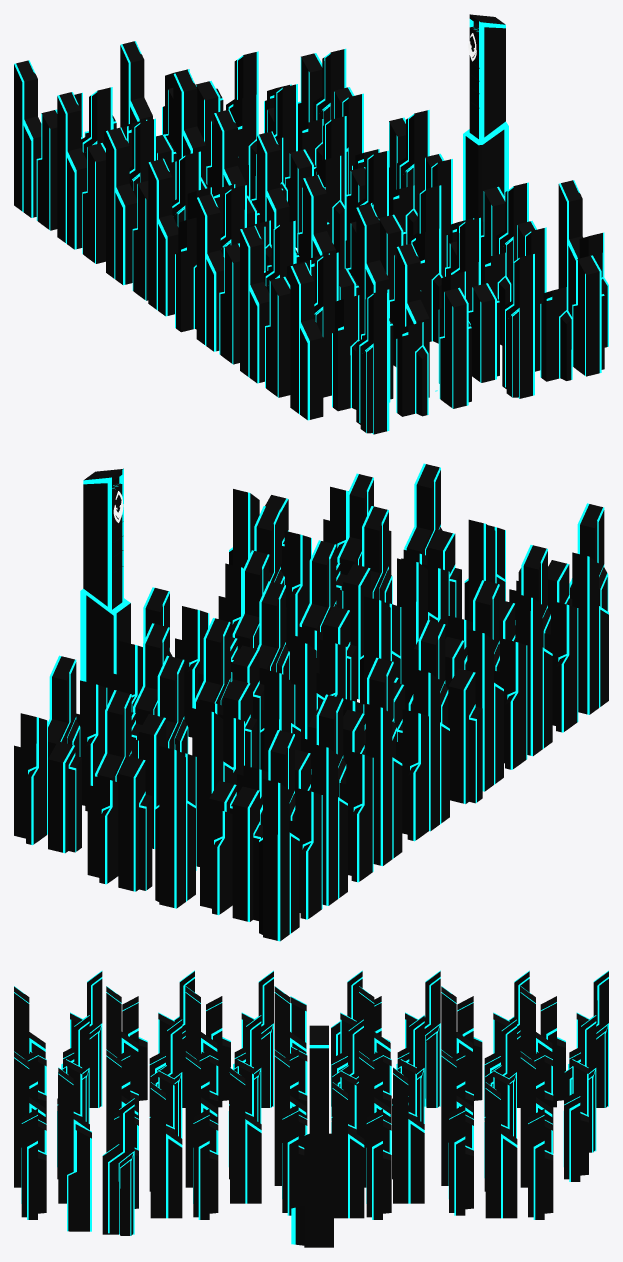
File: tron_inspired_vr_playground5.glb
3 views of the same model, one above another, from view 1: azimuth 30°, elevation 25°; view 2: azimuth 150°, elevation 25°; view 3: azimuth 270°, elevation 25° (orthographic). The views are drawn at different scales.
Visible parts, largest first — view 1: Cube.144, Cube.145, Cube.027, Cube.038, Cube.158, Cube.148, Cube.155, Cube.147, Cube.151, Cube.152, Cube.029, Cube.036 (+51 smaller); view 2: Cube.144, Cube.078, Cube.152, Cube.145, Cube.158, Cube.081, Cube.149, Cube.082, Cube.147, Cube.155, Cube.151, Cube.157 (+58 smaller); view 3: Cube.144, Cube.159, Cube.044, Cube.055, Cube.066, Cube.019, Cube.006, Cube.082, Cube.016, Cube.036, Cube.063, Cube.058 (+56 smaller).
Part boxes in pixels (x1,y1,x2,y2): Cube.144: [463, 14, 508, 235]; Cube.145: [290, 262, 323, 420]; Cube.027: [356, 289, 389, 434]; Cube.038: [502, 254, 534, 398]; Cube.158: [106, 127, 137, 285]; Cube.148: [148, 158, 178, 316]; Cube.155: [57, 92, 86, 249]; Cube.147: [240, 225, 269, 383]; Cube.151: [196, 194, 224, 351]; Cube.152: [14, 60, 41, 217]; Cube.029: [439, 287, 471, 408]; Cube.036: [572, 255, 604, 376]; Cube.144: [80, 468, 130, 704]; Cube.078: [155, 746, 195, 908]; Cube.152: [259, 779, 299, 941]; Cube.145: [572, 552, 608, 714]; Cube.158: [365, 704, 402, 866]; Cube.081: [118, 756, 152, 891]; Cube.149: [448, 668, 482, 803]; Cube.082: [14, 713, 47, 845]; Cube.147: [515, 594, 552, 756]; Cube.155: [311, 743, 347, 905]; Cube.151: [467, 629, 503, 791]; Cube.157: [396, 709, 429, 841]; Cube.144: [291, 1025, 333, 1247]; Cube.159: [102, 1098, 134, 1235]; Cube.044: [150, 1082, 182, 1218]; Cube.055: [485, 1082, 517, 1218]; Cube.066: [393, 1067, 424, 1203]; Cube.019: [230, 1067, 261, 1203]; Cube.006: [332, 1082, 364, 1218]; Cube.082: [528, 1109, 553, 1219]; Cube.016: [193, 1109, 218, 1219]; Cube.036: [21, 1109, 46, 1219]; Cube.063: [366, 1109, 391, 1219]; Cube.058: [449, 1104, 473, 1215].
Size of the model in its own units: 187 by 122 by 313.
